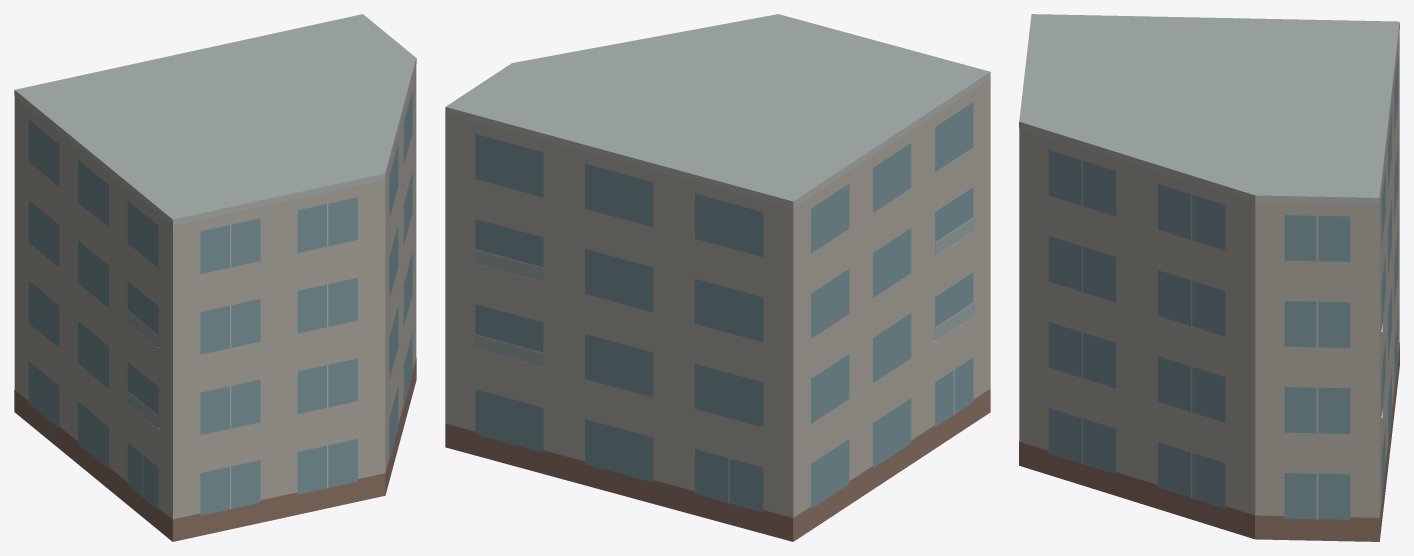
Rendered from survey-upis-32824575.glb.
3 renders of one model, left to right at view 1: azimuth 30°, elevation 25°; view 2: azimuth 150°, elevation 25°; view 3: azimuth 270°, elevation 25°, orthographic. The views are drawn at different scales.
Visible parts, largest first — view 1: survey-upis-32824575.tmp; view 2: survey-upis-32824575.tmp; view 3: survey-upis-32824575.tmp.
Part boxes in pixels (box(x1,y1,x2,y2)): survey-upis-32824575.tmp: box(14, 14, 416, 541); survey-upis-32824575.tmp: box(445, 14, 990, 541); survey-upis-32824575.tmp: box(1019, 14, 1399, 541).
Bounding box in the file's own units: 14 × 12.2 × 12.25.
